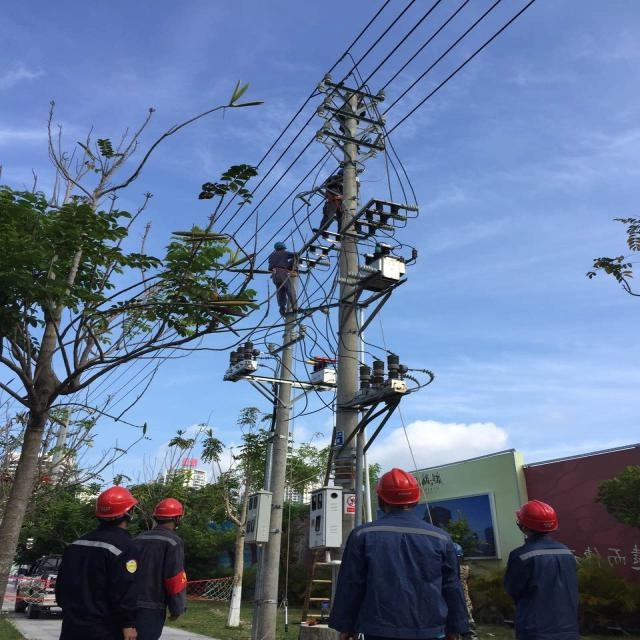Con_Casco: (377, 468, 419, 514), (95, 487, 137, 527), (515, 500, 558, 539), (154, 497, 182, 530)
Sin_Chaleco: (355, 521, 453, 625), (517, 544, 575, 621)
